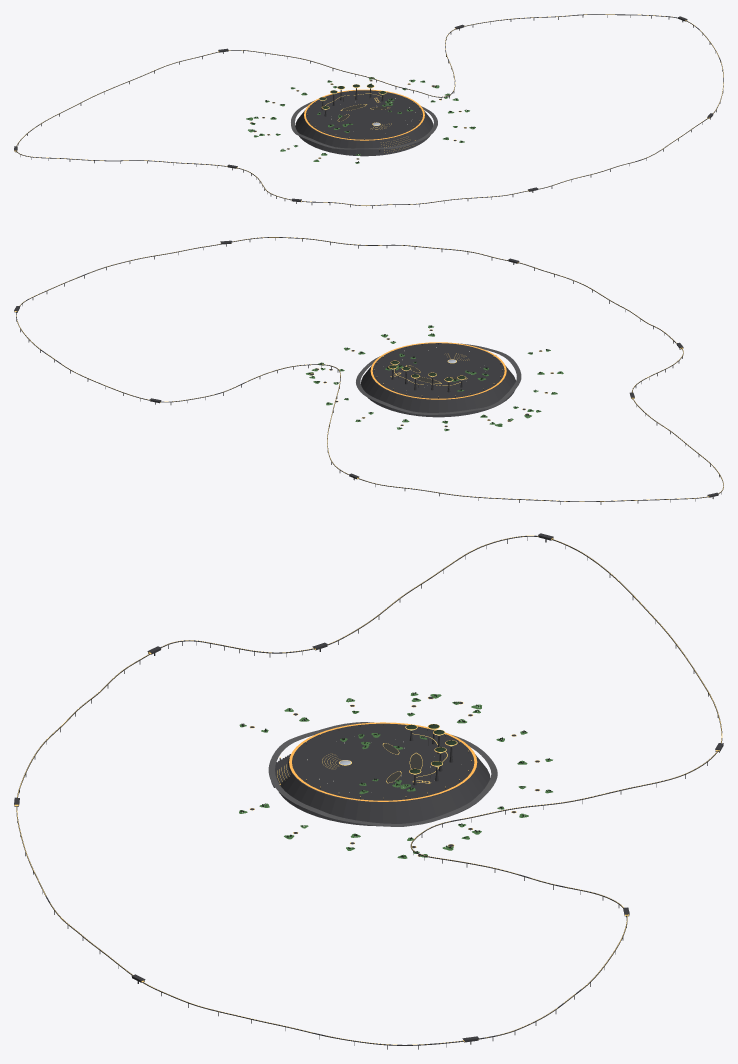
File: plaza.glb
The picture shows the model from 3 angles, top to bottom: view 1: azimuth 30°, elevation 25°; view 2: azimuth 150°, elevation 25°; view 3: azimuth 270°, elevation 25°; orthographic projection. The views are drawn at different scales.
Visible parts, largest first — view 1: CentralEventPlaza, PlazaPodium, IN_MonorailBeam, PlazaRingRoad, IN_MonorailGlow, CL_GardenPlanters, PlazaRing; view 2: CentralEventPlaza, PlazaPodium, IN_MonorailBeam, PlazaRingRoad, IN_MonorailGlow, CL_GardenPlanters, PlazaRing; view 3: CentralEventPlaza, PlazaPodium, IN_MonorailBeam, PlazaRingRoad, IN_MonorailGlow, CL_GardenPlanters, PlazaRing.
Boxes of the visible parts, left/top/right/bottom form: CentralEventPlaza: left=306, top=90, right=422, bottom=140; PlazaPodium: left=295, top=110, right=433, bottom=156; IN_MonorailBeam: left=16, top=14, right=723, bottom=206; PlazaRingRoad: left=291, top=100, right=437, bottom=149; IN_MonorailGlow: left=17, top=14, right=723, bottom=205; CL_GardenPlanters: left=246, top=77, right=475, bottom=163; PlazaRing: left=304, top=89, right=424, bottom=140; CentralEventPlaza: left=372, top=343, right=504, bottom=399; PlazaPodium: left=361, top=365, right=515, bottom=417; IN_MonorailBeam: left=16, top=237, right=723, bottom=501; PlazaRingRoad: left=356, top=343, right=521, bottom=414; IN_MonorailGlow: left=16, top=237, right=723, bottom=501; CL_GardenPlanters: left=306, top=325, right=563, bottom=431; PlazaRing: left=370, top=342, right=506, bottom=399; CentralEventPlaza: left=292, top=723, right=474, bottom=802; PlazaPodium: left=277, top=754, right=490, bottom=826; IN_MonorailBeam: left=16, top=535, right=722, bottom=1045; PlazaRingRoad: left=268, top=722, right=497, bottom=826; IN_MonorailGlow: left=16, top=535, right=722, bottom=1044; CL_GardenPlanters: left=239, top=692, right=552, bottom=858; PlazaRing: left=289, top=722, right=477, bottom=801.
Size of the model in its own units: 3250 by 148 by 1976.
